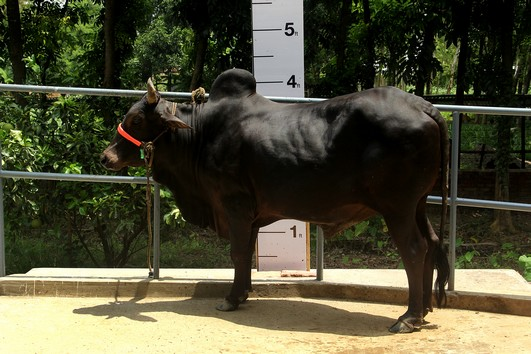cow: (96, 59, 460, 337)
